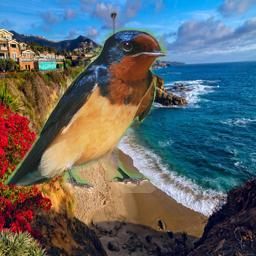Swallow: (2, 28, 167, 193)
